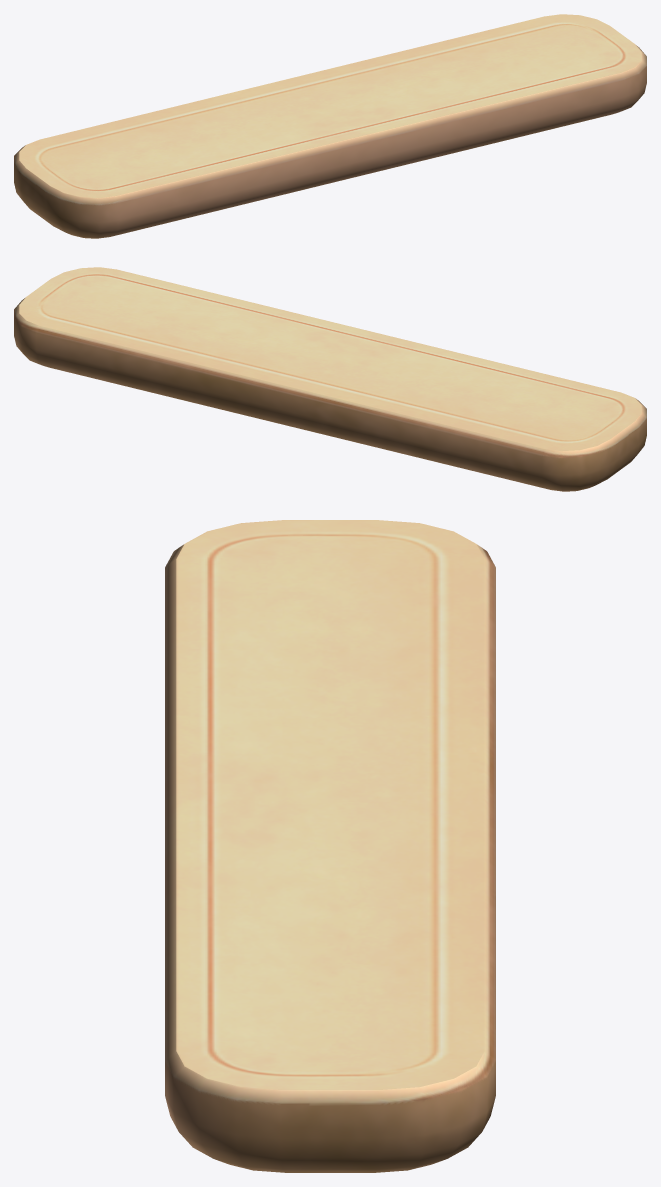
The model's file is model_Tray.fbx.
The picture shows the model from 3 angles, top to bottom: view 1: azimuth 30°, elevation 25°; view 2: azimuth 150°, elevation 25°; view 3: azimuth 270°, elevation 25°; orthographic projection. The views are drawn at different scales.
Visible parts, largest first — view 1: model_Tray; view 2: model_Tray; view 3: model_Tray.
Part boxes in pixels (left/top/right/bottom): model_Tray: left=14, top=14, right=646, bottom=238; model_Tray: left=14, top=267, right=646, bottom=491; model_Tray: left=165, top=520, right=495, bottom=1172.
Size of the model in its own units: 368 by 29.13 by 88.92.
